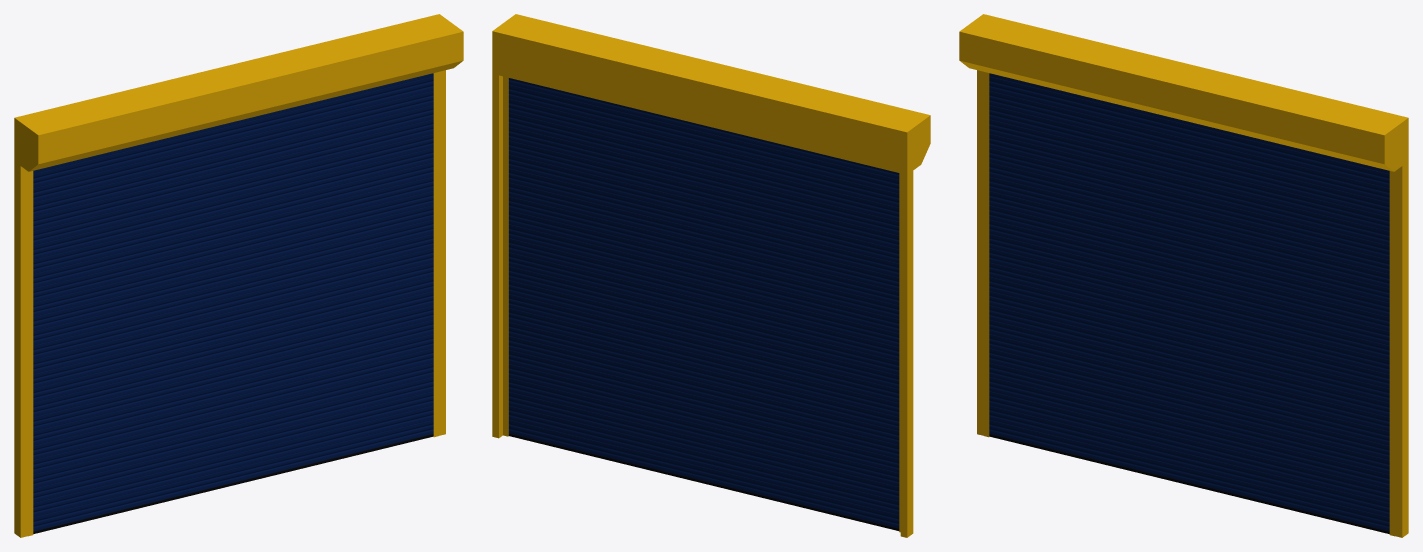
Rendered from Garage door 1.FBX.
3 views of the same model, side by side, from view 1: azimuth 30°, elevation 25°; view 2: azimuth 150°, elevation 25°; view 3: azimuth 330°, elevation 25° (orthographic). The views are drawn at different scales.
Parts seen in each view (by area): view 1: Box023; view 2: Box023; view 3: Box023.
Part boxes in pixels (left/top/right/bottom): Box023: left=14, top=14, right=463, bottom=537; Box023: left=492, top=14, right=930, bottom=537; Box023: left=959, top=14, right=1408, bottom=537.
Size of the model in its own units: 311 by 290 by 30.5.
